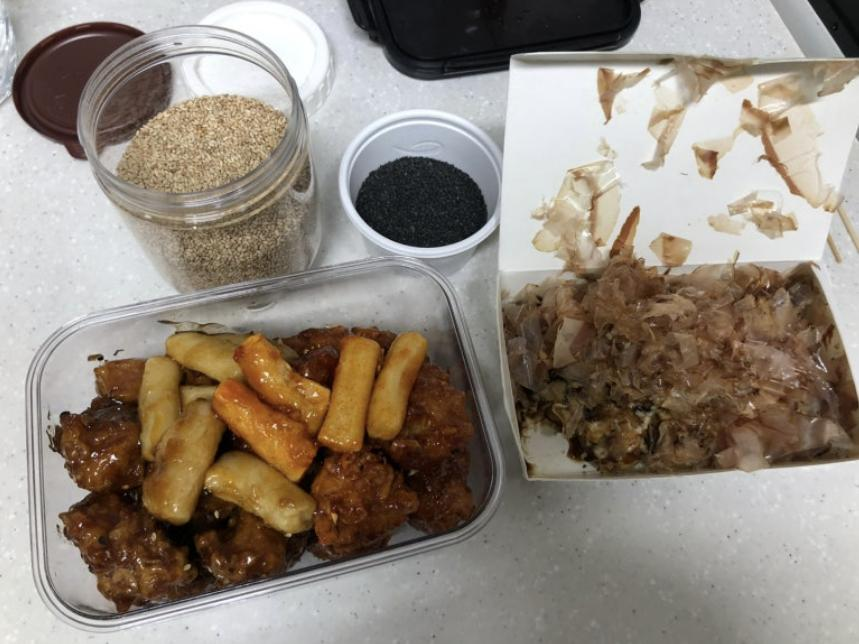Lunch Box: (27, 258, 502, 628), (498, 53, 858, 480), (78, 25, 320, 290)
cup: (338, 110, 501, 272)
